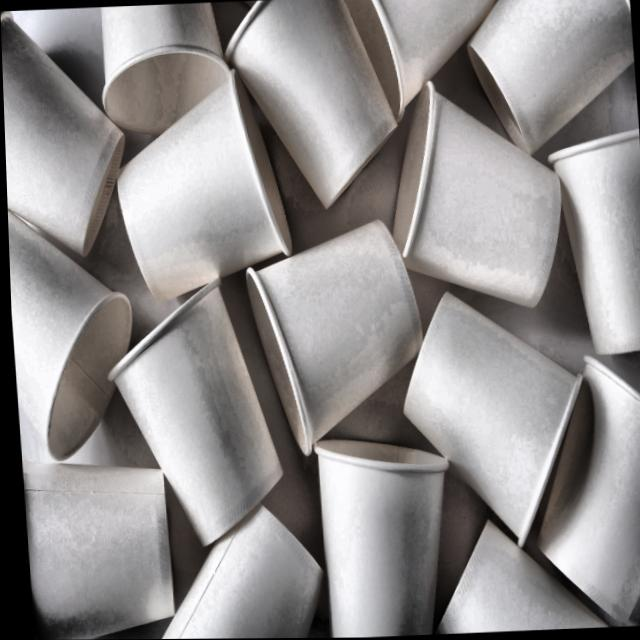Cup: (392, 275, 598, 566), (88, 263, 289, 559), (237, 213, 438, 463), (377, 72, 575, 325), (102, 66, 299, 312), (220, 0, 416, 229), (510, 318, 640, 630), (297, 403, 467, 638), (545, 109, 640, 373)
